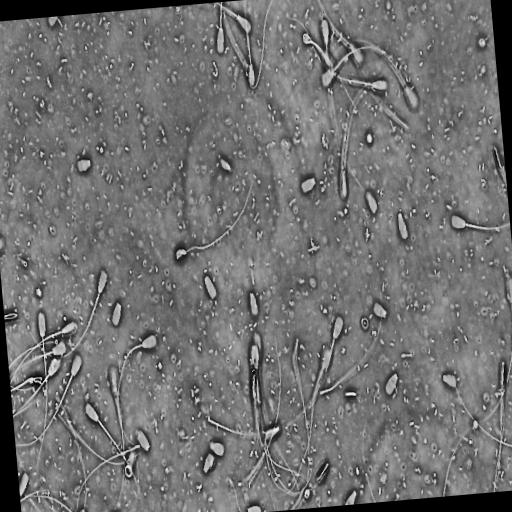dirt-particles: (174, 245, 189, 262)
loose-head: (202, 272, 219, 301), (396, 208, 410, 242), (384, 370, 399, 397), (135, 427, 151, 452), (299, 174, 317, 195), (441, 371, 458, 391), (248, 290, 260, 318), (372, 299, 388, 320), (202, 452, 215, 477), (75, 156, 92, 175), (111, 299, 122, 328), (208, 440, 225, 458), (219, 156, 232, 173)
loose-tail: (186, 176, 257, 255), (75, 441, 143, 512)
normal: (28, 270, 108, 361), (16, 350, 84, 448), (83, 399, 143, 496), (117, 331, 161, 452), (13, 354, 62, 421), (36, 308, 49, 473), (449, 212, 510, 232)
